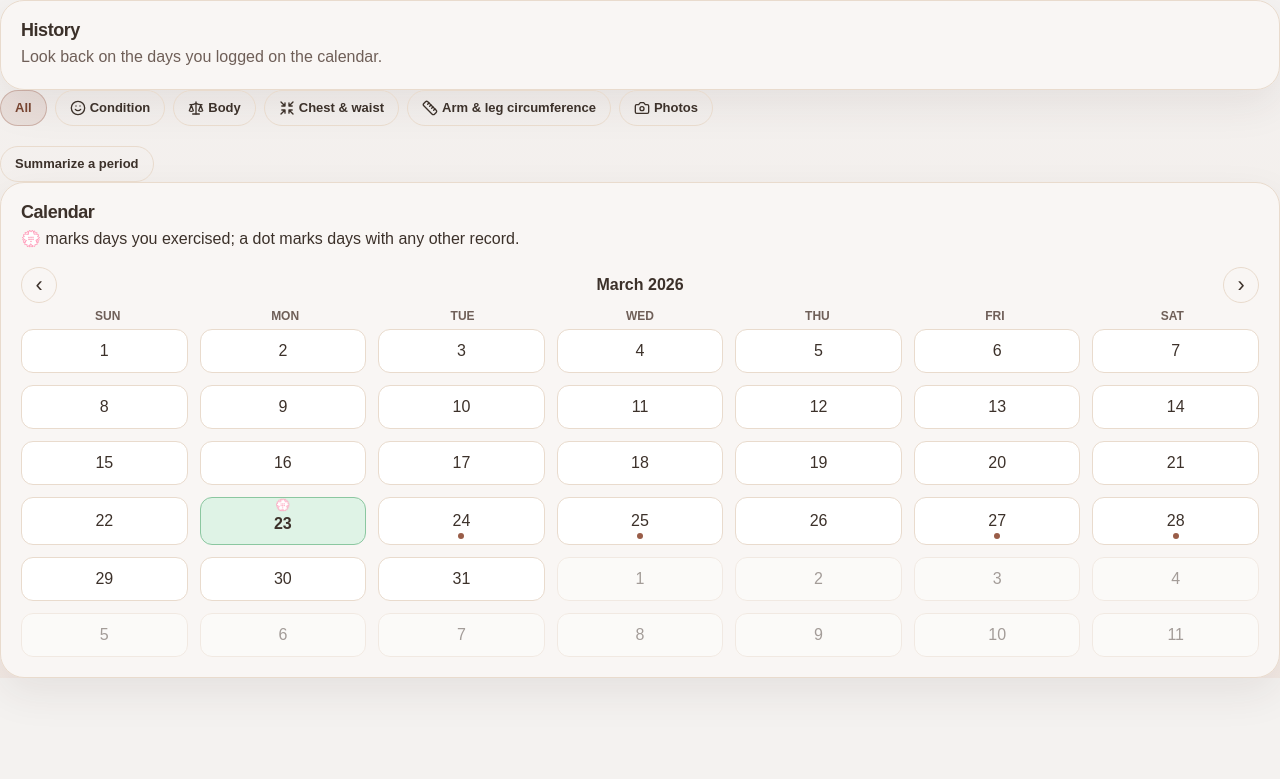
Scenario: shows the selected day's timeline without a day summary card
The image size is (1280, 779).
Click the button named "March 23, completed" at (283, 521), box x1=200 y1=497 x2=366 y2=545
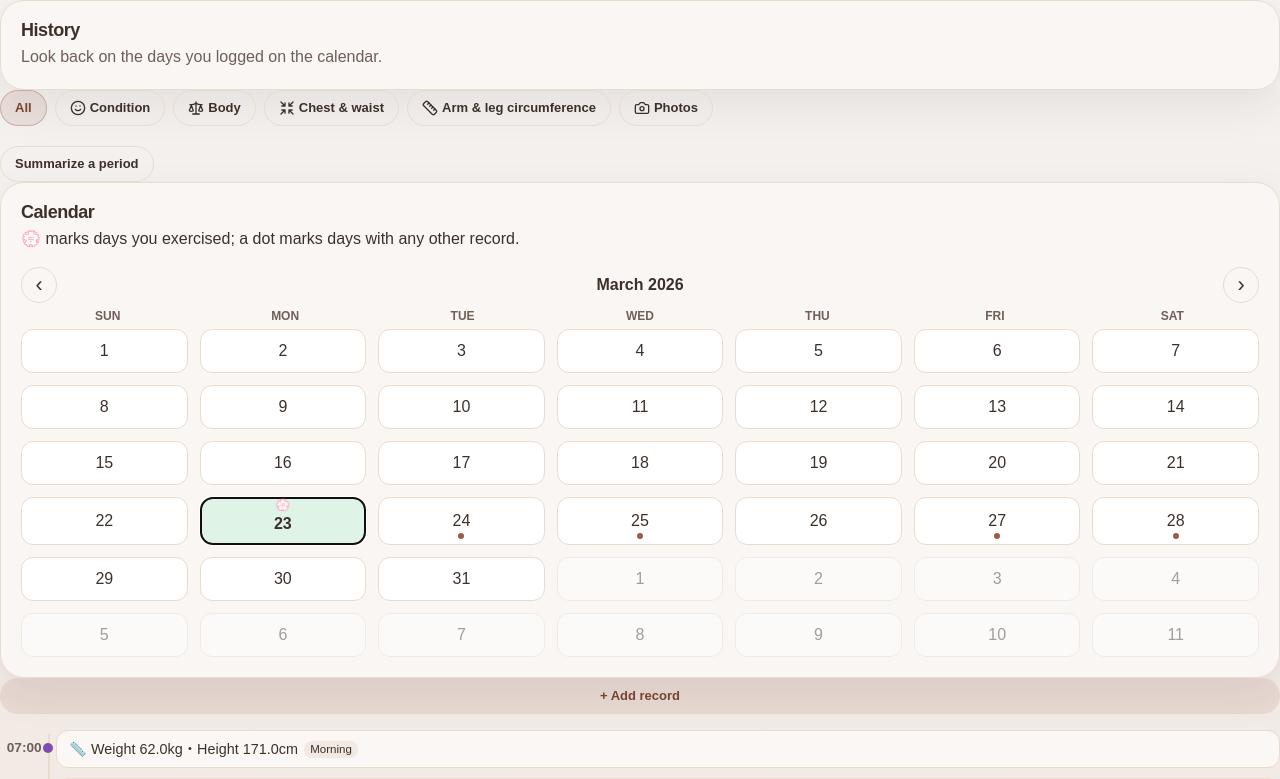
Click the button named "March 24 (recorded)" at (461, 521), box x1=378 y1=497 x2=545 y2=545
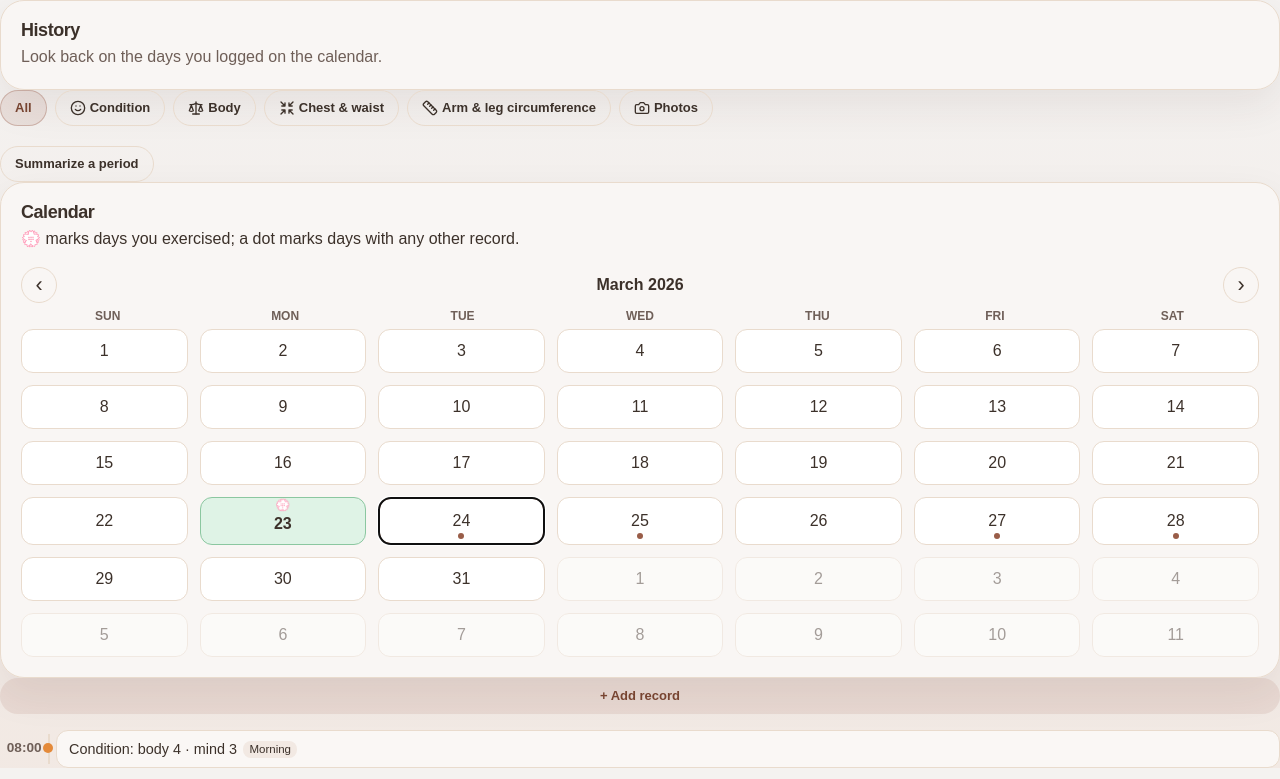
Now the button "Condition: body 4 · mind 3 Morning" is shown, box x1=56 y1=730 x2=1279 y2=768
